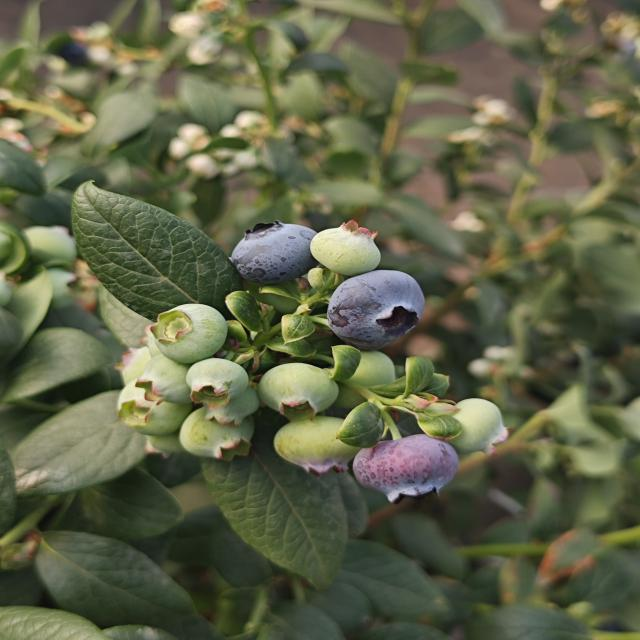ripe: (323, 268, 428, 352), (350, 432, 461, 506), (226, 218, 320, 286)
